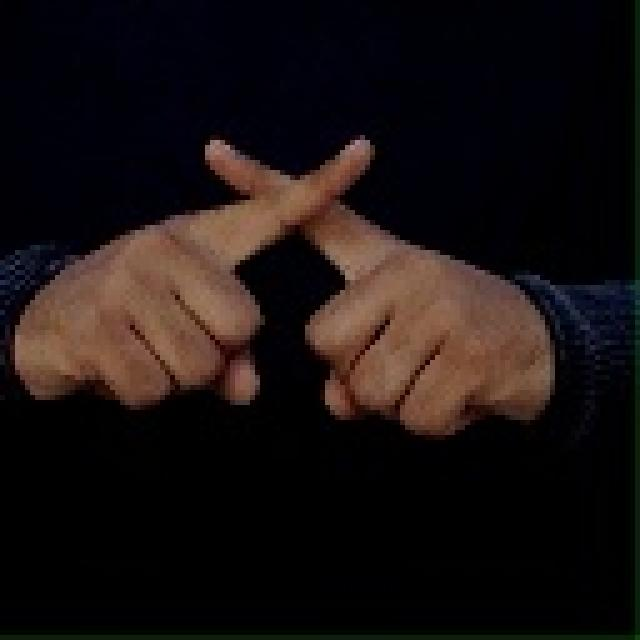X: (69, 120, 510, 433)
